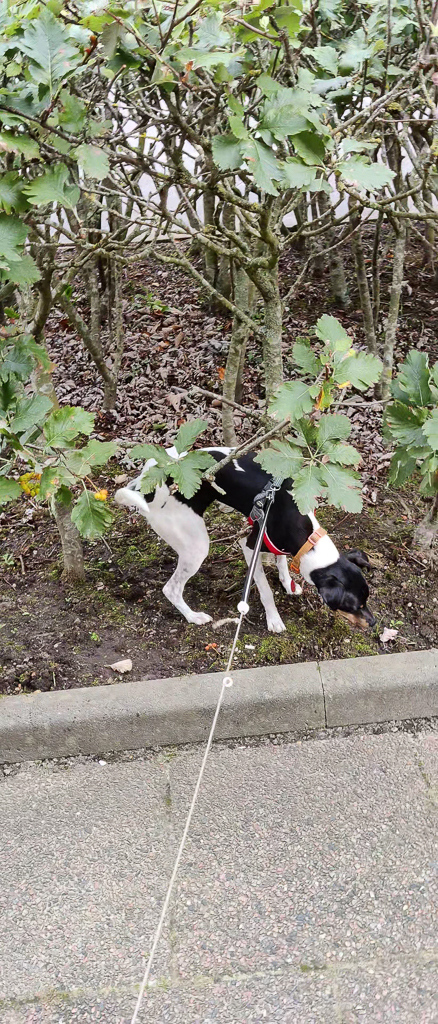Dog: (106, 432, 388, 651)
